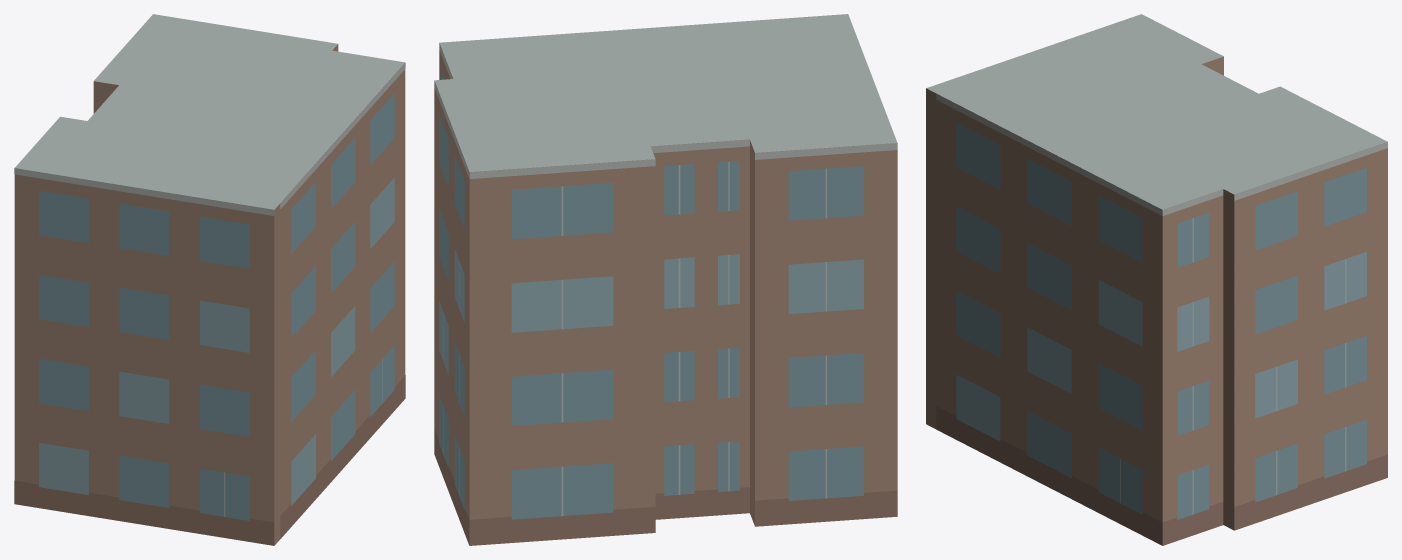
Rendered from survey-upis-32758070.glb.
The picture shows the model from 3 angles, left to right: view 1: azimuth 30°, elevation 25°; view 2: azimuth 150°, elevation 25°; view 3: azimuth 270°, elevation 25°; orthographic projection. The views are drawn at different scales.
Visible parts, largest first — view 1: survey-upis-32758070.tmp; view 2: survey-upis-32758070.tmp; view 3: survey-upis-32758070.tmp.
Part boxes in pixels (x1,y1,x2,y2): survey-upis-32758070.tmp: (14, 14, 405, 545); survey-upis-32758070.tmp: (434, 14, 897, 545); survey-upis-32758070.tmp: (926, 14, 1387, 545).
Bounding box in the file's own units: 16.26 × 13 × 16.2.
